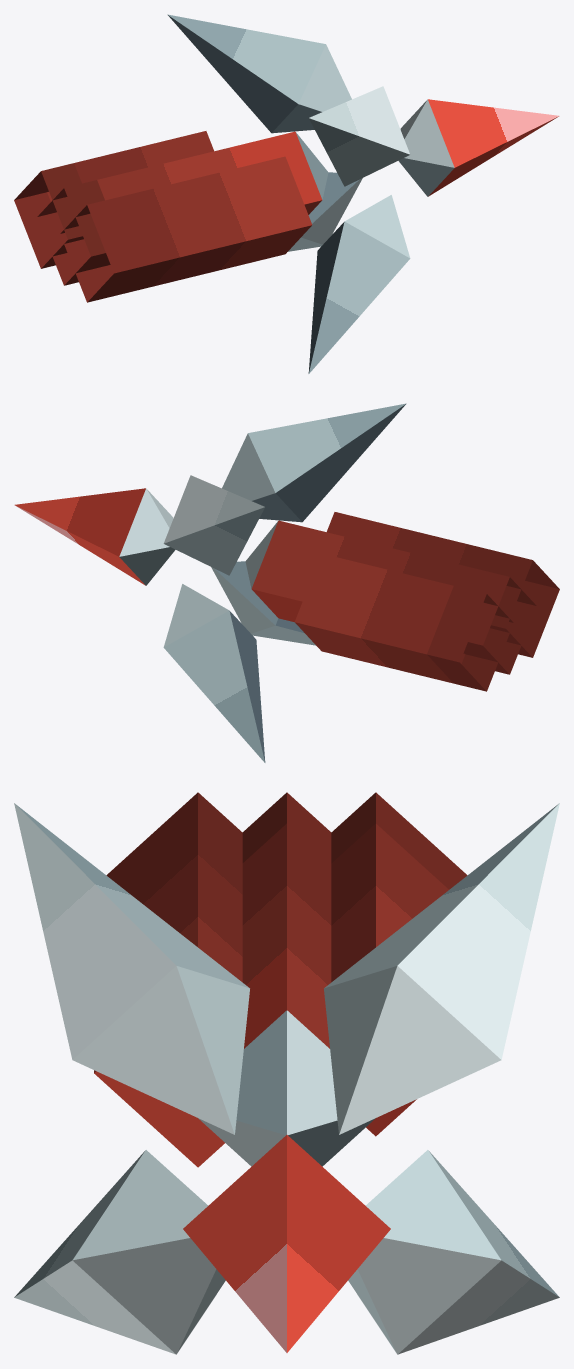
Rendered from signalite_spike_devouring.obj.
3 views of the same model, one above another, from view 1: azimuth 30°, elevation 25°; view 2: azimuth 150°, elevation 25°; view 3: azimuth 270°, elevation 25° (orthographic). The views are drawn at different scales.
Parts seen in each view (by area): view 1: SPIKE_DEVOURING_Cube.018; view 2: SPIKE_DEVOURING_Cube.018; view 3: SPIKE_DEVOURING_Cube.018.
Boxes of the visible parts, left/top/right/bottom form: SPIKE_DEVOURING_Cube.018: left=14, top=14, right=559, bottom=373; SPIKE_DEVOURING_Cube.018: left=14, top=403, right=559, bottom=762; SPIKE_DEVOURING_Cube.018: left=14, top=792, right=559, bottom=1354.
Bounding box in the file's own units: 0.4688 × 0.2317 × 0.2317.
